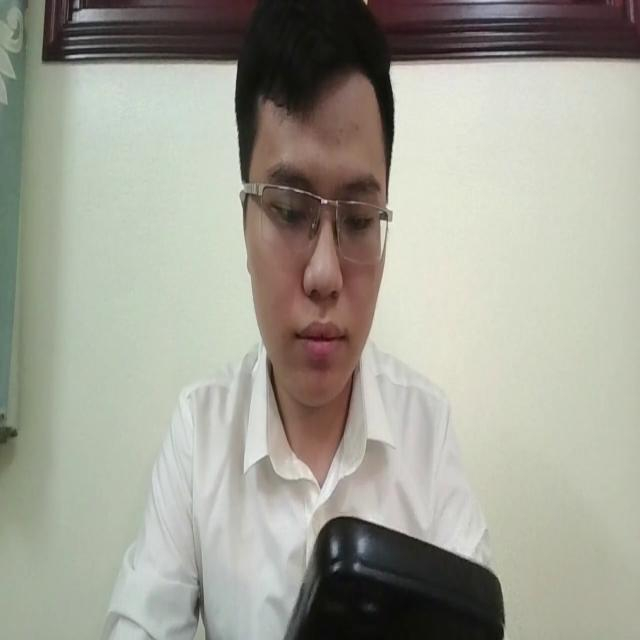phone: (275, 508, 503, 640)
student: (92, 0, 511, 640)
